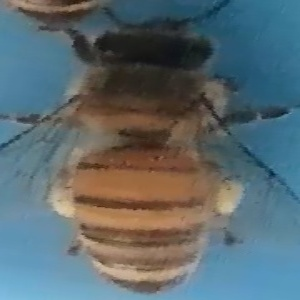bee: (58, 21, 293, 288), (2, 1, 100, 28)
